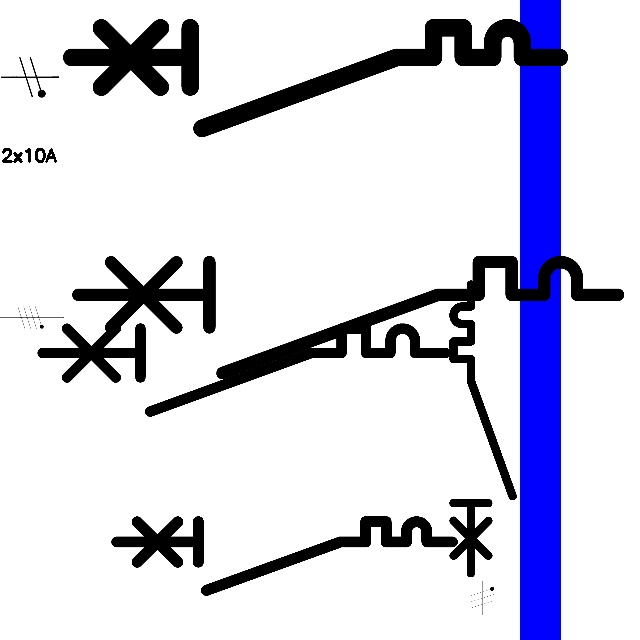interruptor_termomagnetico: (64, 248, 632, 387), (59, 15, 572, 140), (32, 318, 456, 422), (108, 513, 461, 599), (446, 277, 520, 580)
